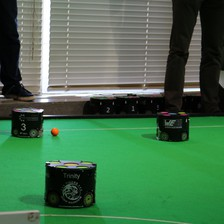ball: (49, 127, 60, 136)
robot: (42, 156, 97, 208), (153, 108, 190, 143), (10, 105, 44, 138), (87, 95, 116, 115), (116, 94, 141, 115), (140, 94, 161, 113), (184, 93, 202, 110)
